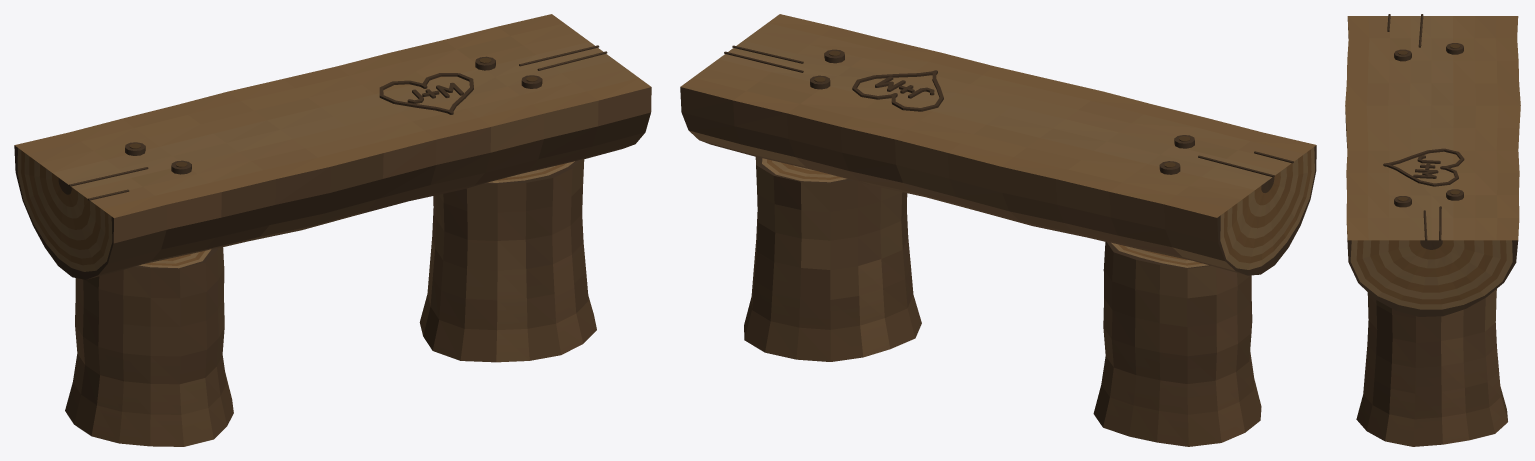
File: log-bench.glb
3 renders of one model, left to right at view 1: azimuth 30°, elevation 25°; view 2: azimuth 150°, elevation 25°; view 3: azimuth 270°, elevation 25°, orthographic. The views are drawn at different scales.
Parts seen in each view (by area): view 1: log_bench; view 2: log_bench; view 3: log_bench.
Part boxes in pixels (box(x1,y1,x2,y2)): log_bench: box(14, 14, 651, 446); log_bench: box(680, 14, 1316, 446); log_bench: box(1345, 14, 1520, 446).
Size of the model in its own units: 1.12 by 0.5115 by 0.3707.
